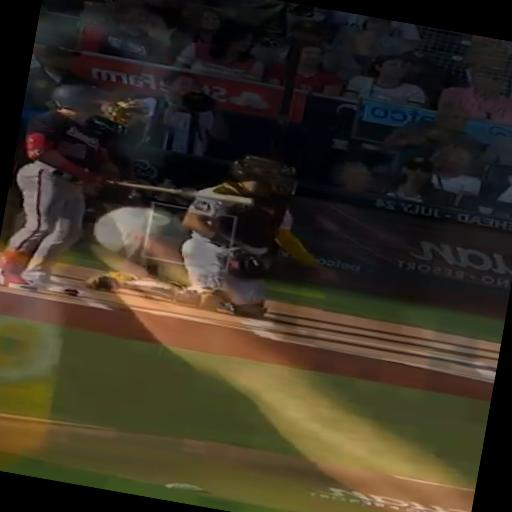bat: (107, 181, 250, 205)
